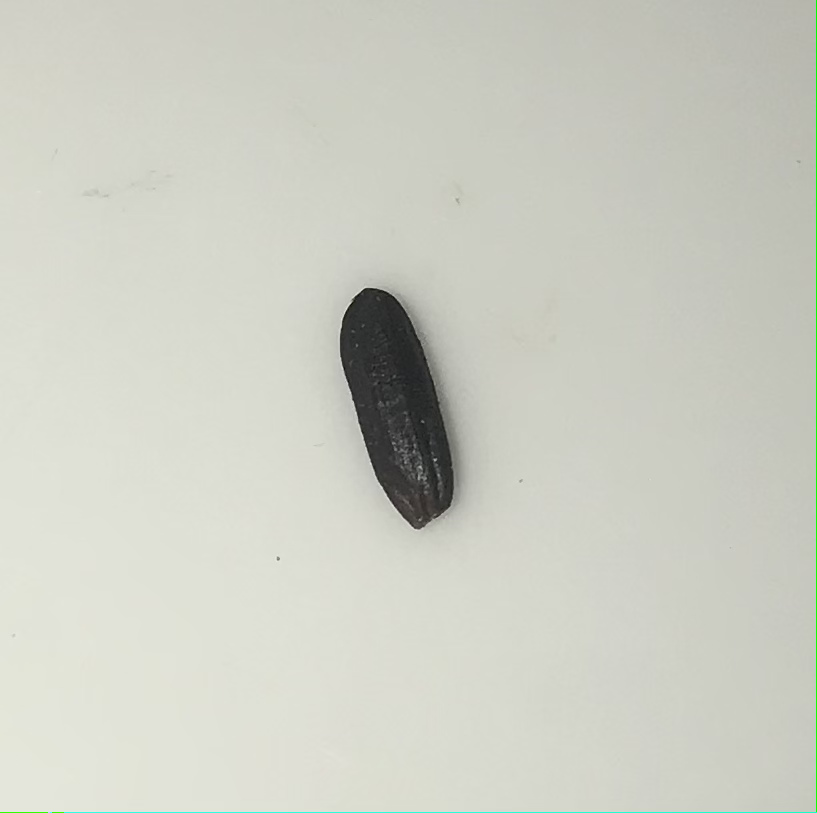Gao Nep Cam: (320, 279, 470, 537)
